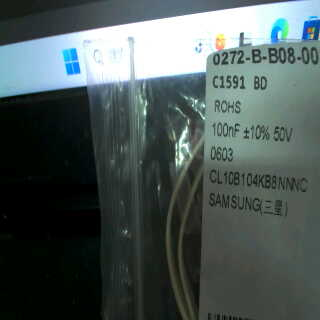100nF: (209, 121, 243, 140)
